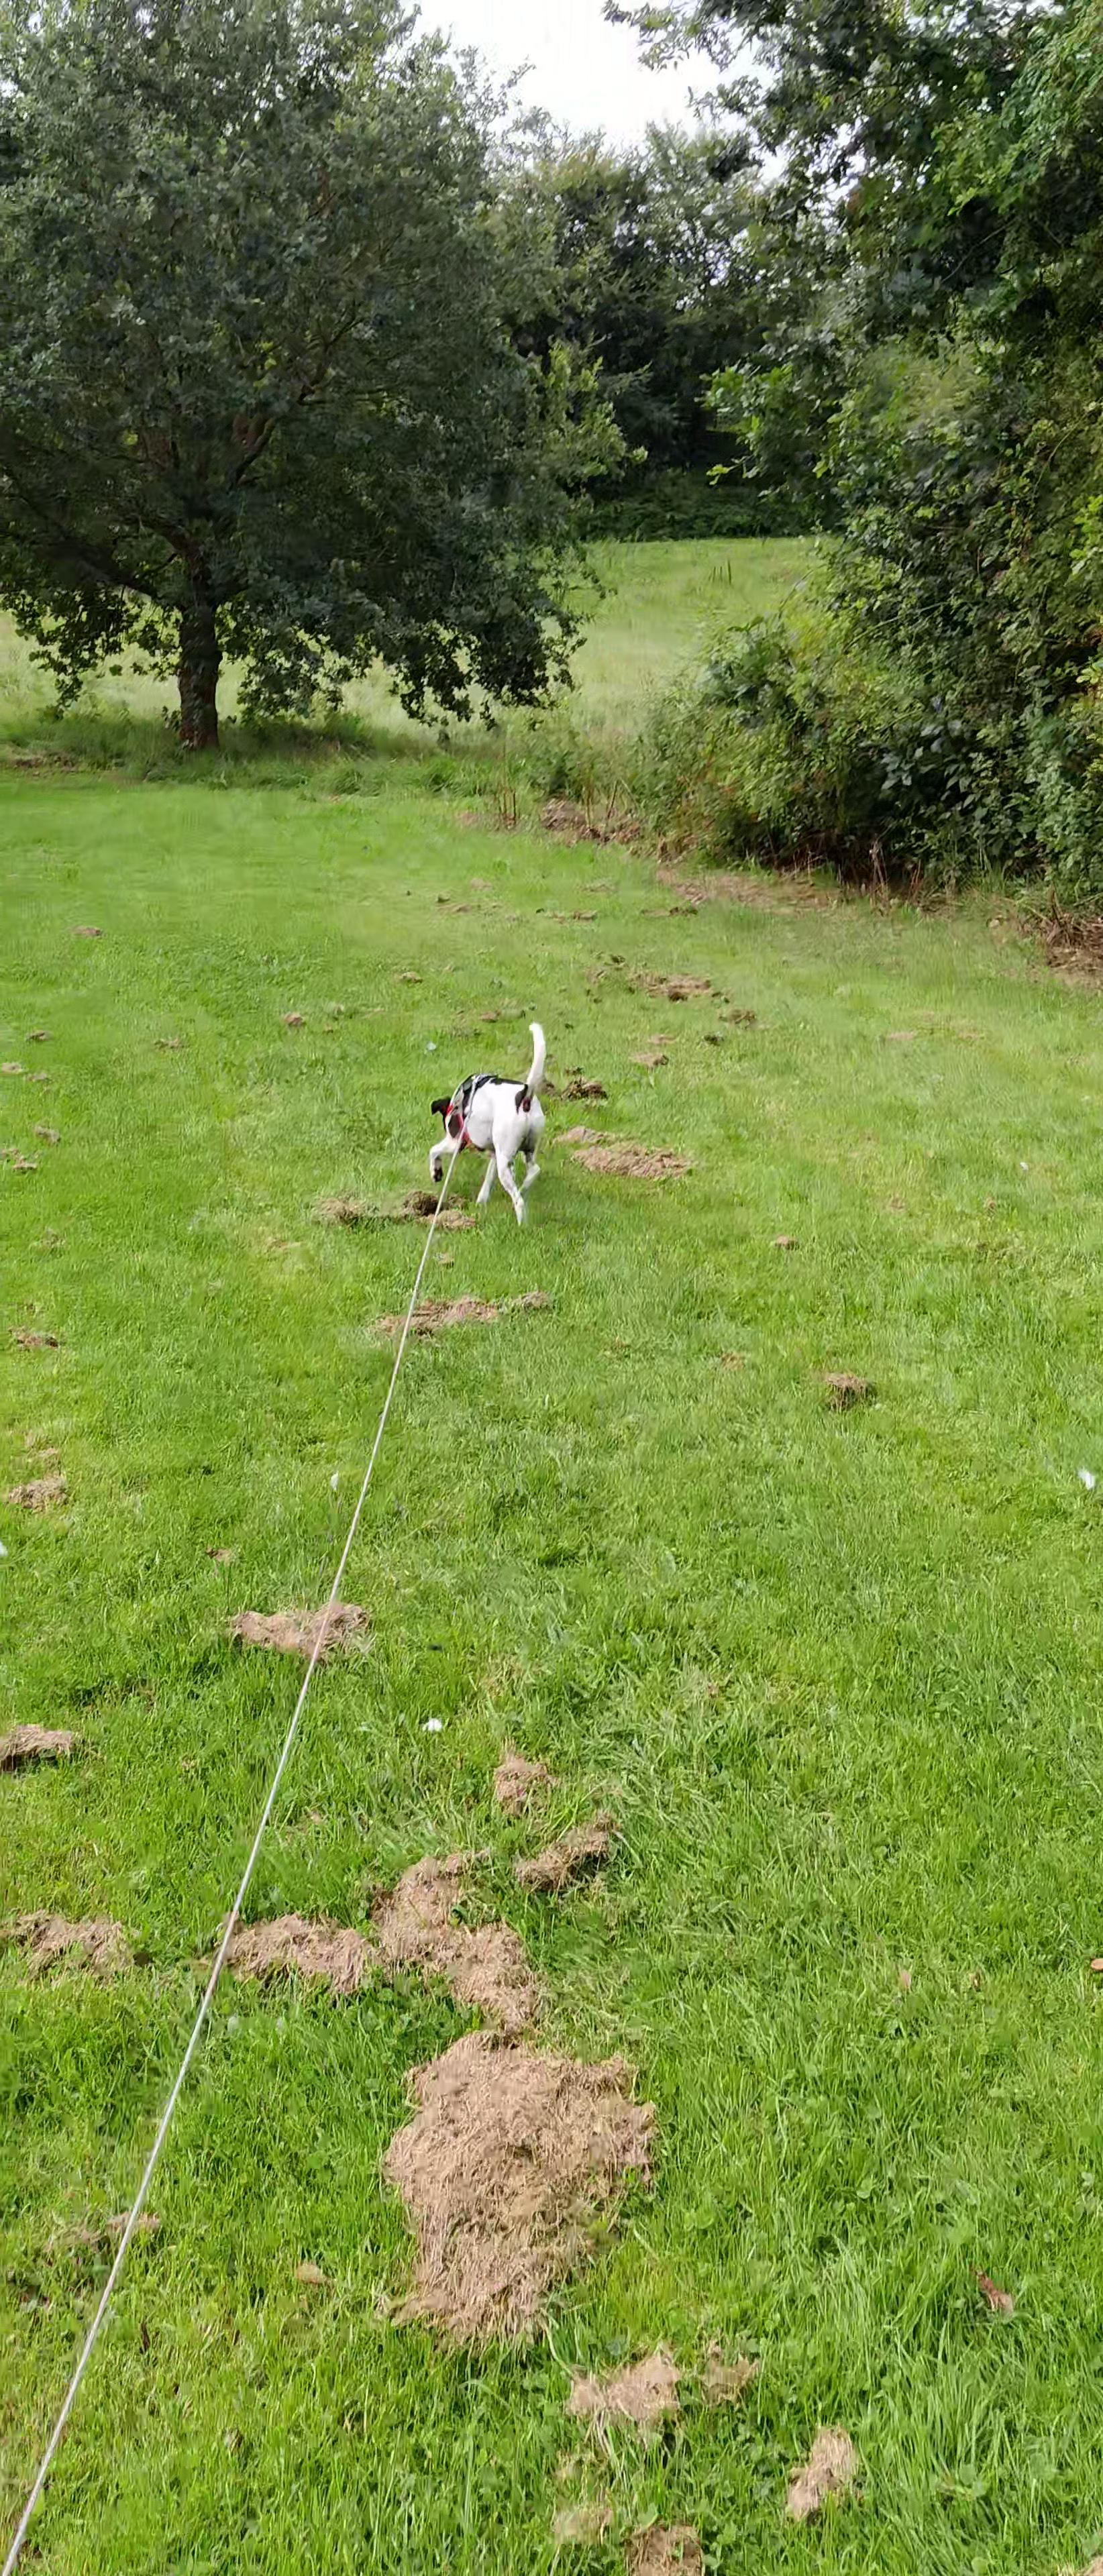Dog: (427, 1017, 549, 1229)
